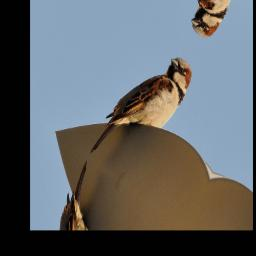Swallow: (88, 32, 199, 190)
